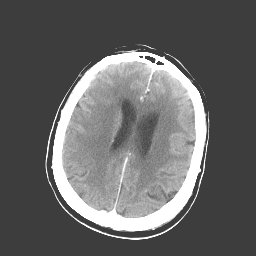ischemic: (72, 107, 107, 191)
